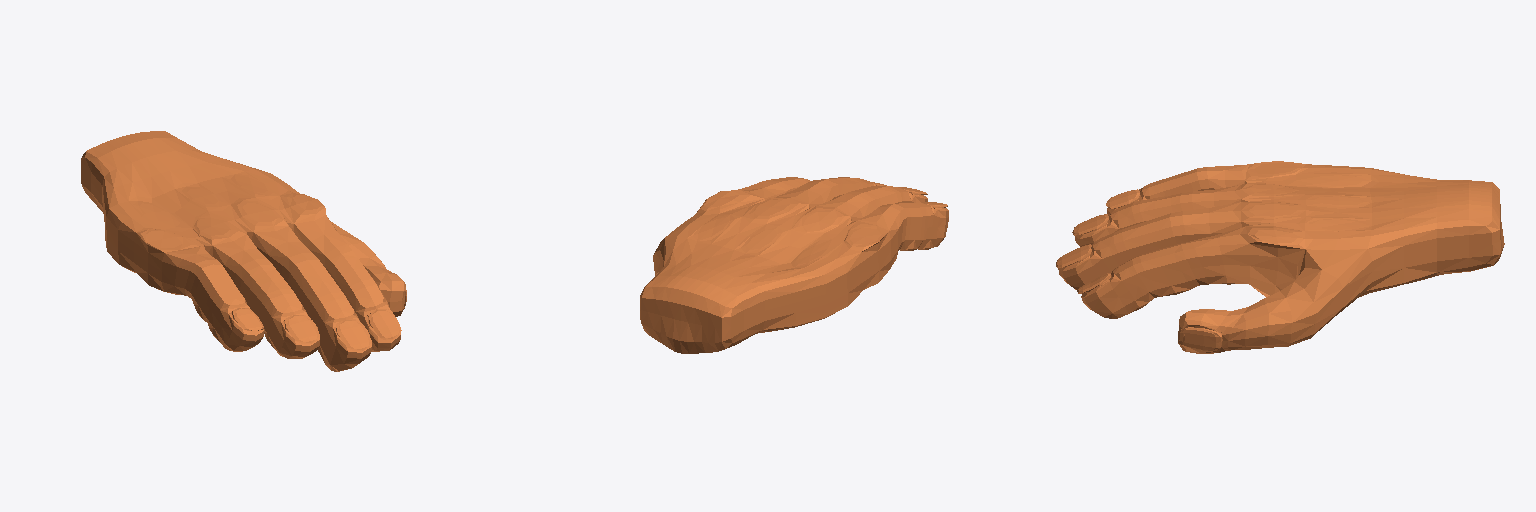
Rendered from hand1.obj.
3 views of the same model, side by side, from view 1: azimuth 30°, elevation 25°; view 2: azimuth 150°, elevation 25°; view 3: azimuth 270°, elevation 25° (orthographic).
Visible parts, largest first — view 1: Box001; view 2: Box001; view 3: Box001.
Part boxes in pixels (bbox=[...]): Box001: bbox=[81, 131, 406, 371]; Box001: bbox=[640, 177, 948, 353]; Box001: bbox=[1056, 161, 1504, 353].
Bounding box in the file's own units: 196 × 86.38 × 344.